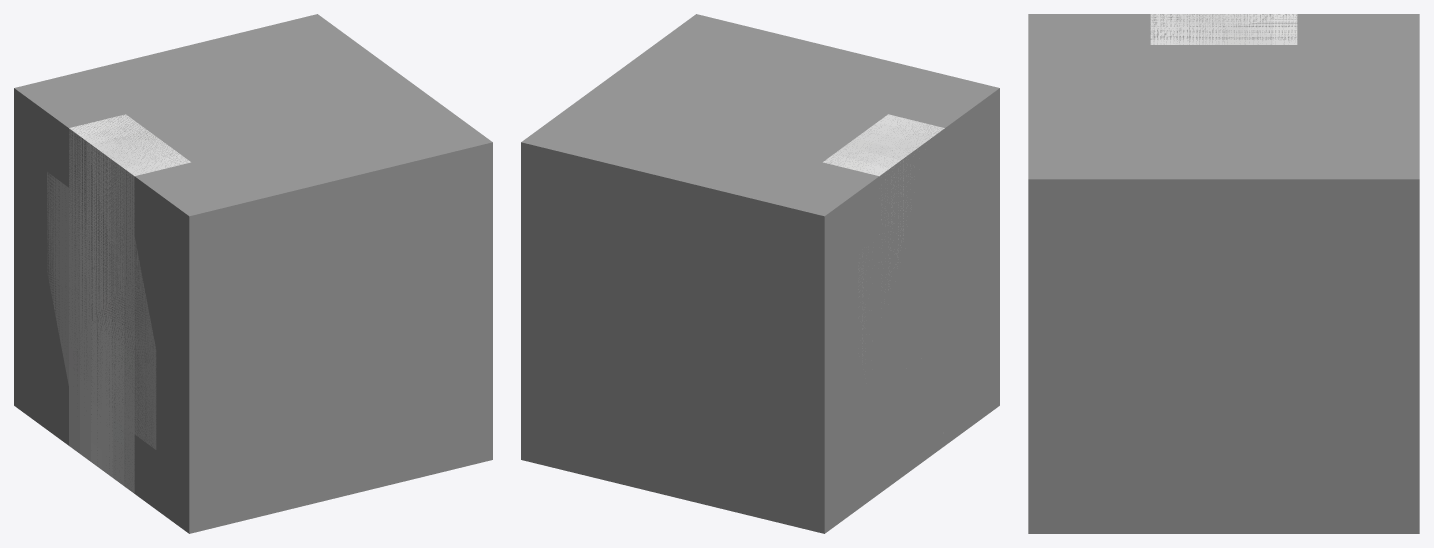
The model's file is PowerElectricPrimitives.obj.
The picture shows the model from 3 angles, left to right: view 1: azimuth 30°, elevation 25°; view 2: azimuth 150°, elevation 25°; view 3: azimuth 270°, elevation 25°; orthographic projection. The views are drawn at different scales.
Parts seen in each view (by area): view 1: Minecraft_Block, Base, ResistorBaseExtention; view 2: Minecraft_Block, Base; view 3: Minecraft_Block, Base.
Boxes of the visible parts, x1,y1,x2,y2 form: Minecraft_Block: (14,14,492,533); Base: (69,114,190,493); ResistorBaseExtention: (47,172,156,449); Minecraft_Block: (521,14,999,533); Base: (823,114,944,289); Minecraft_Block: (1028,14,1419,533); Base: (1150,14,1297,44).
Size of the model in its own units: 1 by 1 by 1.
Materials: 3 (1 with a texture image).
